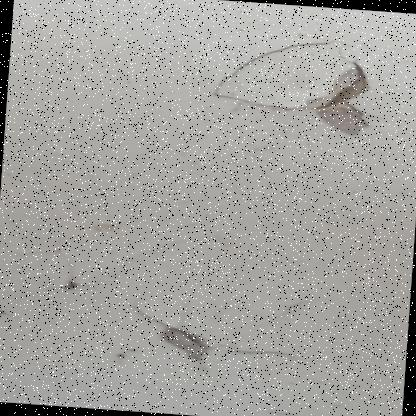Crack: (184, 11, 415, 156), (98, 281, 342, 397), (6, 208, 160, 307), (0, 299, 27, 328)
